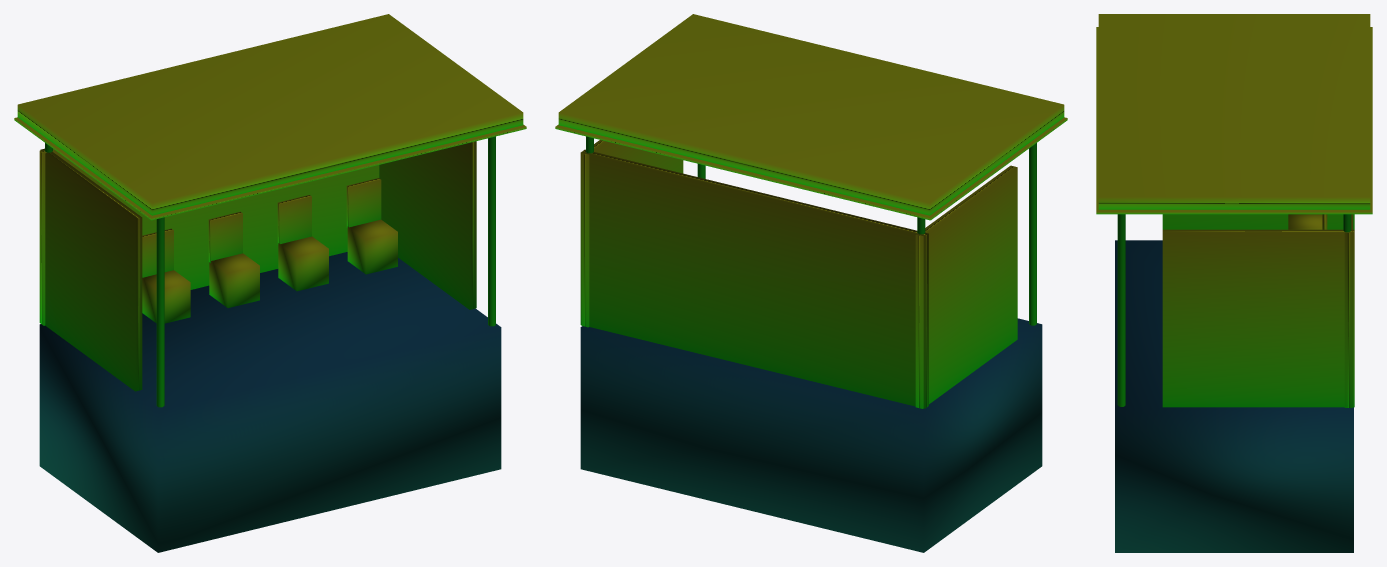
The model's file is conclave_gallery.glb.
The picture shows the model from 3 angles, left to right: view 1: azimuth 30°, elevation 25°; view 2: azimuth 150°, elevation 25°; view 3: azimuth 270°, elevation 25°; orthographic projection.
Visible parts, largest first — view 1: conclave_gallery; view 2: conclave_gallery; view 3: conclave_gallery.
Part boxes in pixels (x1,y1,x2,y2): conclave_gallery: (14,14,526,552); conclave_gallery: (555,14,1067,552); conclave_gallery: (1096,14,1372,552).
Size of what is drawn, in the model's own units: 5.43 by 4.97 by 3.43.
